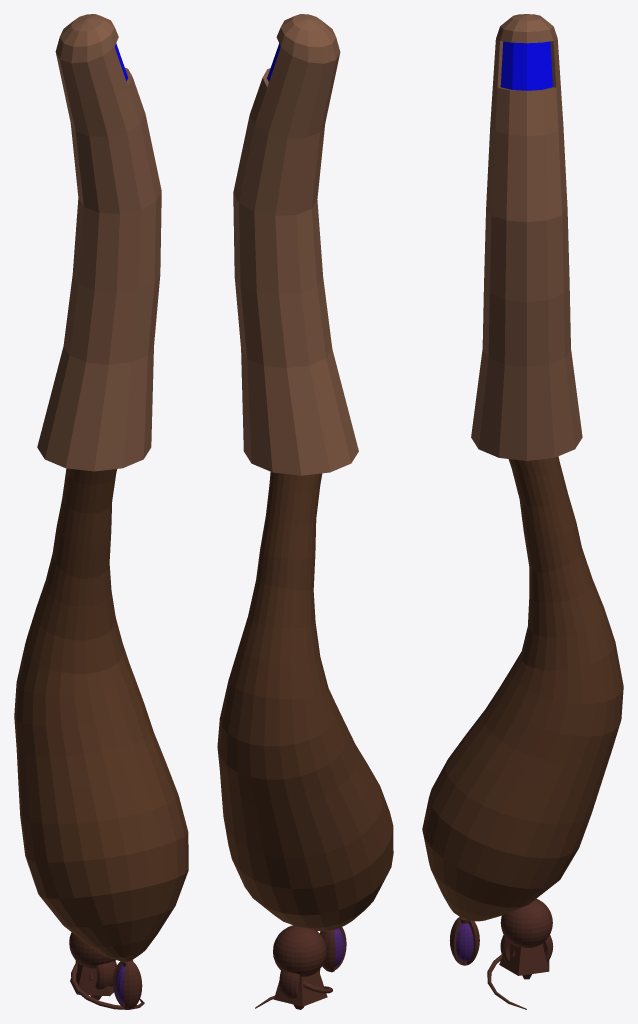
The model's file is Wand 747.glb.
3 views of the same model, side by side, from view 1: azimuth 30°, elevation 25°; view 2: azimuth 150°, elevation 25°; view 3: azimuth 270°, elevation 25° (orthographic). The views are drawn at different scales.
Visible parts, largest first — view 1: GeneratedWand, Pommel_4, Pommel_9, Pommel_10, Pommel_2; view 2: GeneratedWand, Pommel_4, Pommel_9, Pommel_2; view 3: GeneratedWand, Pommel_4, Pommel_9.
Part boxes in pixels (x1,y1,x2,y2): GeneratedWand: [14, 14, 188, 1009]; Pommel_4: [69, 932, 115, 968]; Pommel_9: [70, 961, 116, 996]; Pommel_10: [71, 962, 144, 1009]; Pommel_2: [75, 960, 115, 989]; GeneratedWand: [217, 14, 393, 972]; Pommel_4: [273, 925, 326, 976]; Pommel_9: [274, 970, 327, 1006]; Pommel_2: [279, 969, 320, 998]; GeneratedWand: [422, 14, 623, 965]; Pommel_4: [500, 898, 552, 947]; Pommel_9: [499, 944, 549, 975].
Bounding box in the file's own units: 0.0828 × 0.5487 × 0.1032.
